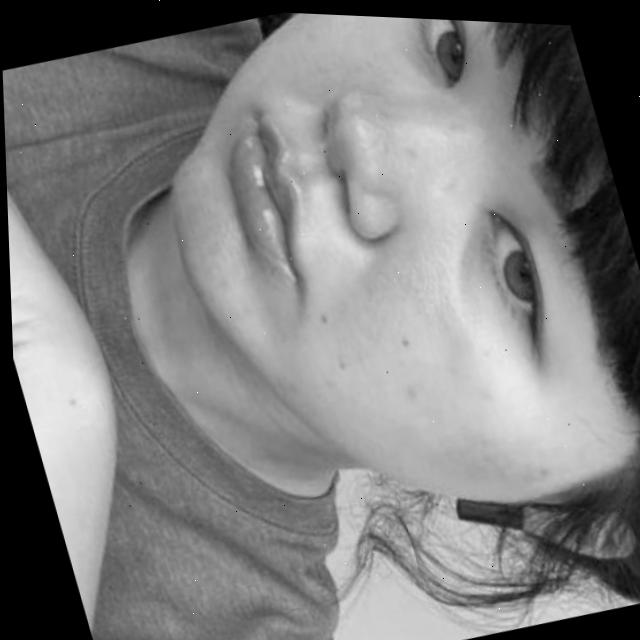Acne: (306, 277, 469, 445)
